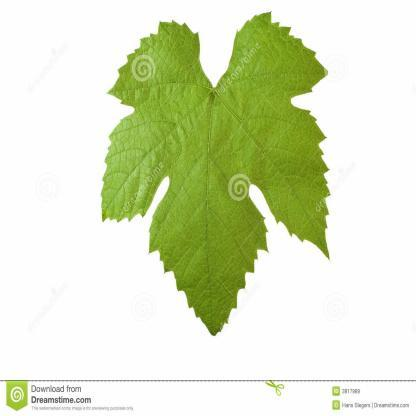grape leaf black rot: (92, 11, 360, 342)
